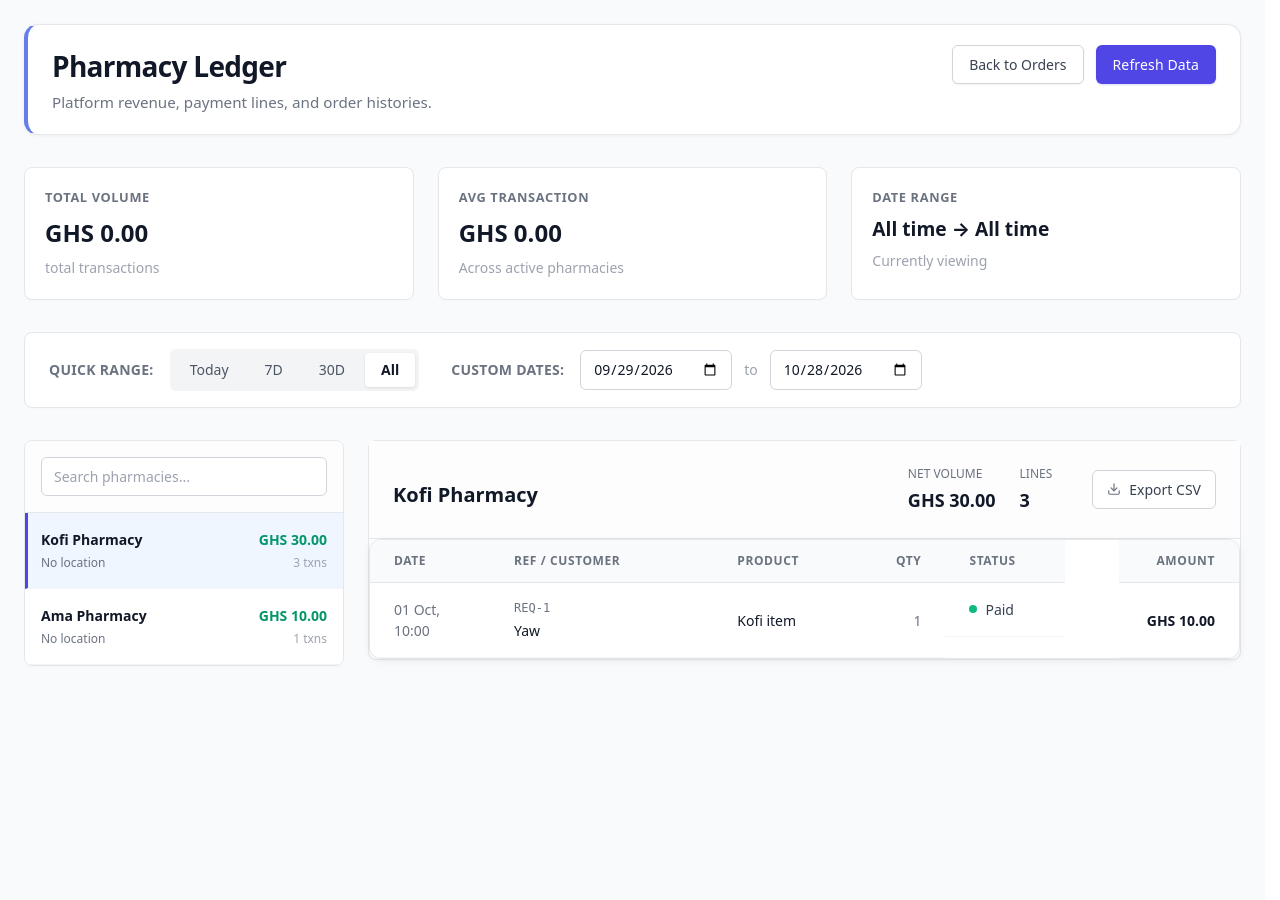
Test: admin pharmacy ledger: switching pharmacy › shows the pharmacy that was clicked last, even when an earlier request answers later
Click the button "Ama Pharmacy No location GHS 10.00 1 txns". click: x=94, y=615
box: [25,589,343,665]
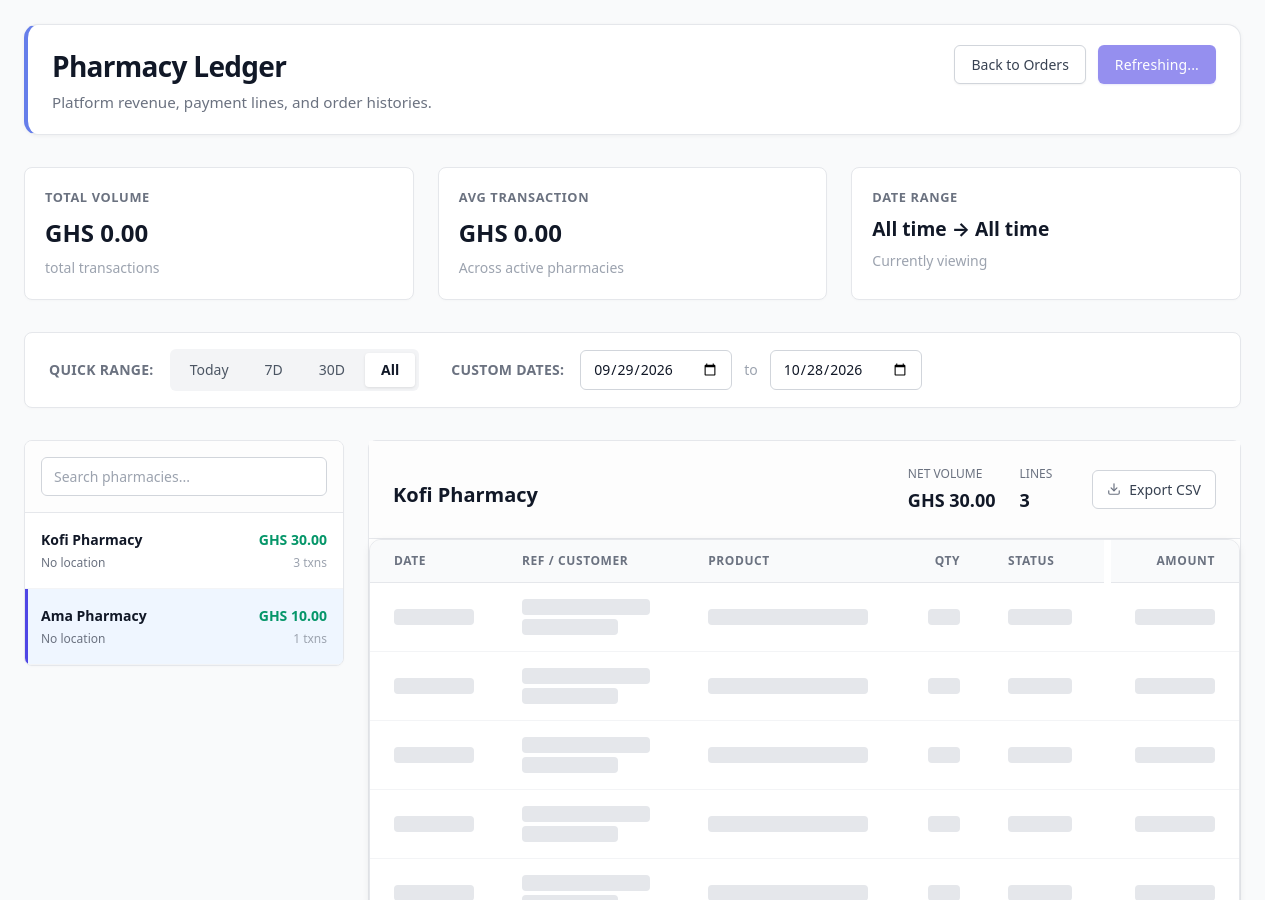
Click the button "Kofi Pharmacy No location GHS 30.00 3 txns". click: x=92, y=539
box: [25,513,343,589]
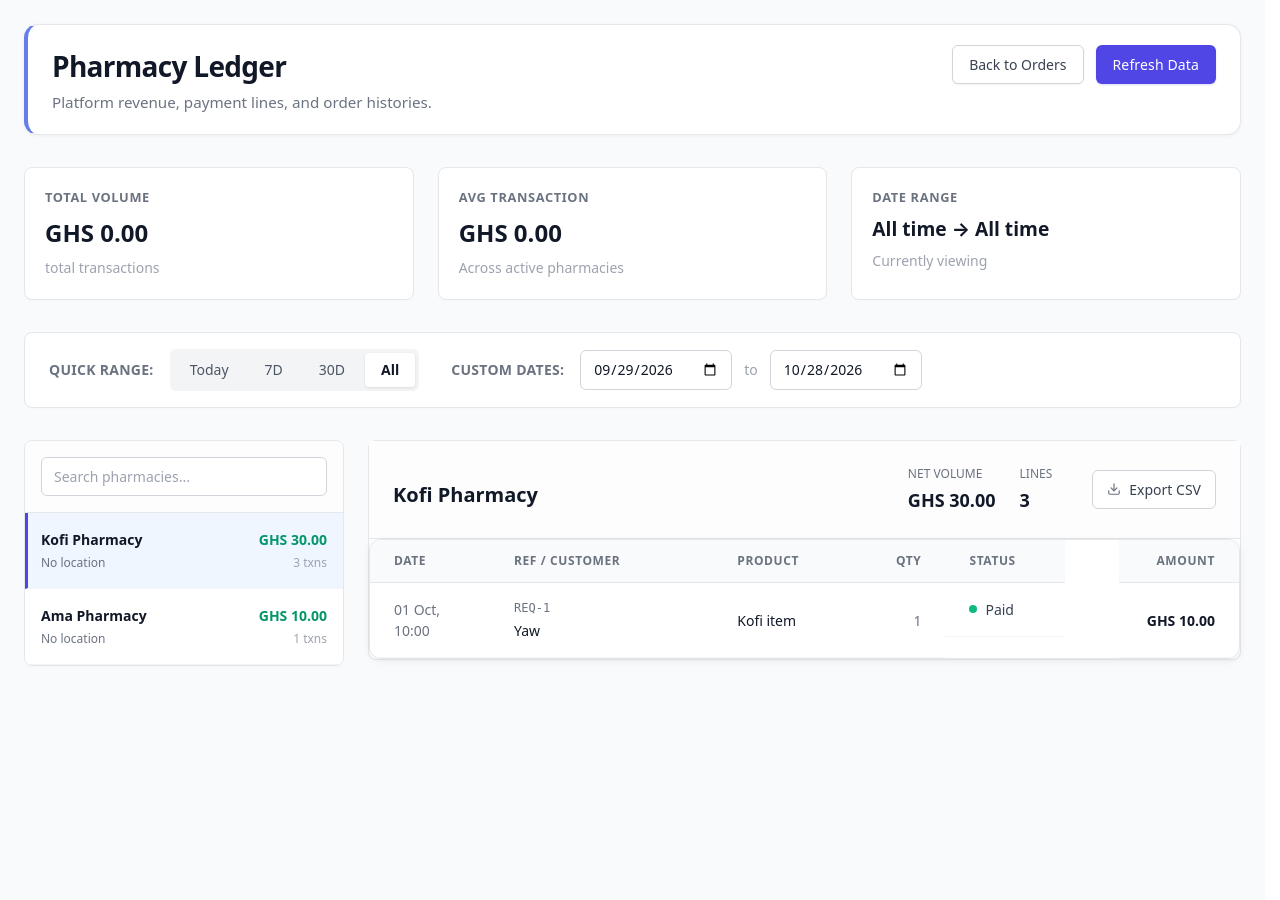
Now the text "Kofi item" is shown, box [713,583,872,658]
